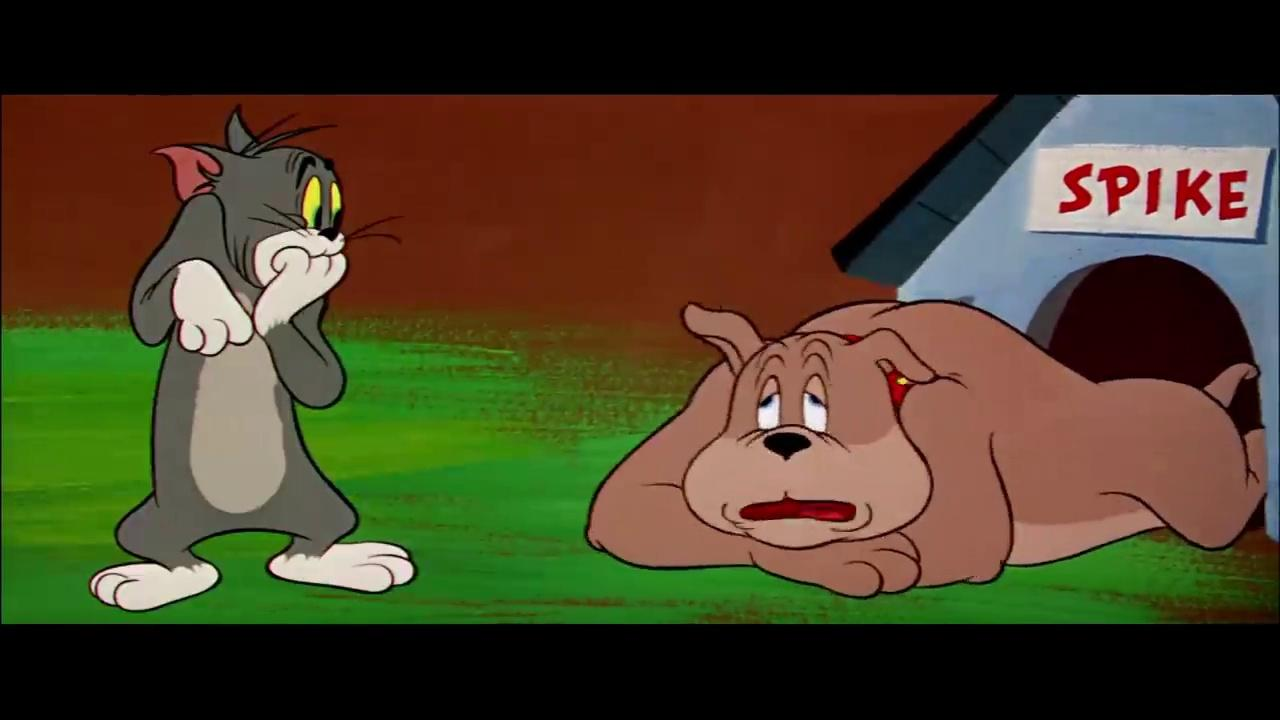Tom: (88, 104, 418, 615)
